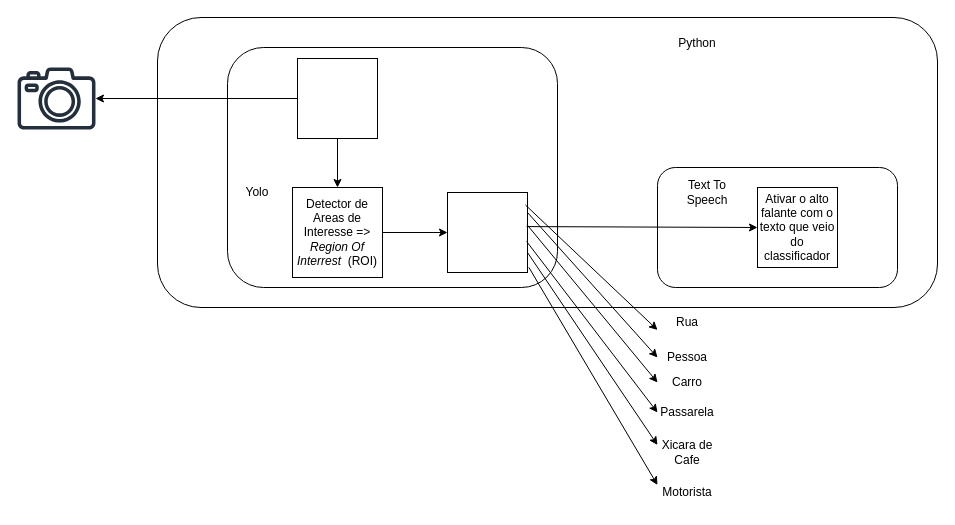
Image size: 955x525. Some labels were removed from this diagram. Here are the shapes that lost their labels. From the top down, the centre of each, then its label:
(337,98): Aciona a camera e pega a image
(487,232): Classificador
